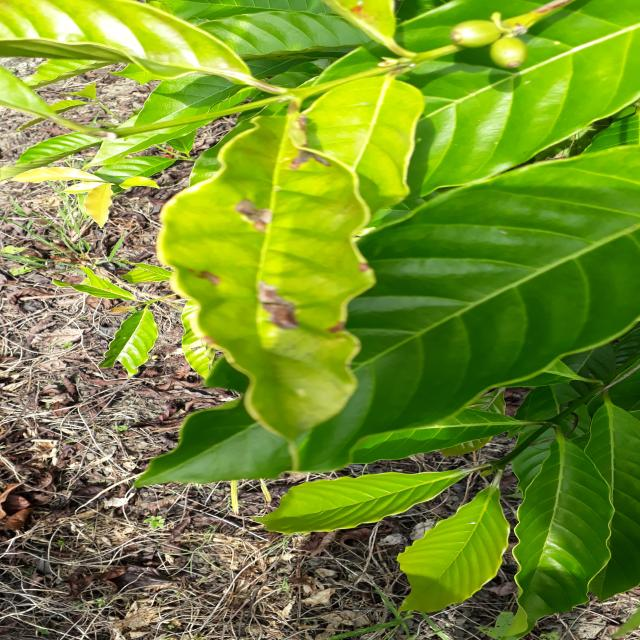Plaga-AranaRoja: (157, 99, 377, 442)
